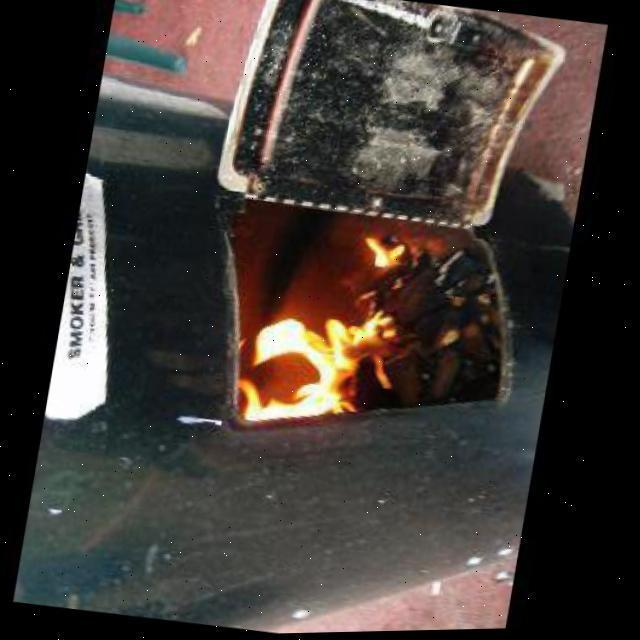fire: (221, 215, 423, 442)
